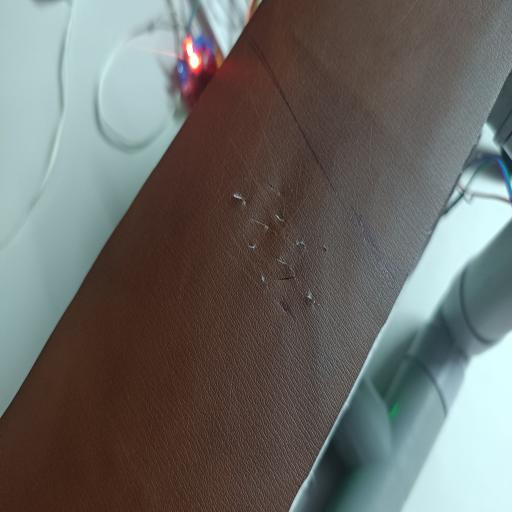belt_crack: (199, 116, 388, 475)
